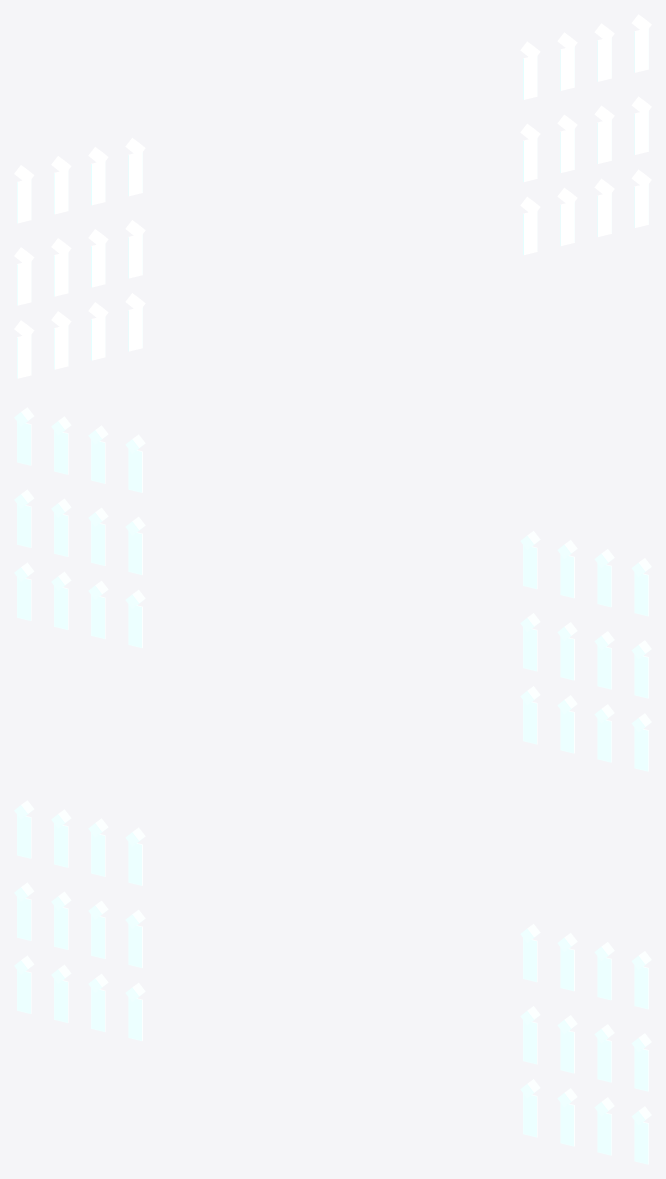
Rendered from PalaceFacadeWindows.fbx.
The picture shows the model from 3 angles, top to bottom: view 1: azimuth 30°, elevation 25°; view 2: azimuth 150°, elevation 25°; view 3: azimuth 330°, elevation 25°; orthographic projection.
Parts seen in each view (by area): view 1: Lancet-1_0_14.001; view 2: Lancet-1_0_14.001; view 3: Lancet-1_0_14.001.
Part boxes in pixels (x1,y1,x2,y2): Lancet-1_0_14.001: [14, 14, 651, 378]; Lancet-1_0_14.001: [14, 407, 651, 771]; Lancet-1_0_14.001: [14, 800, 651, 1164].
Size of the model in its own units: 14470 by 4590 by 260.
